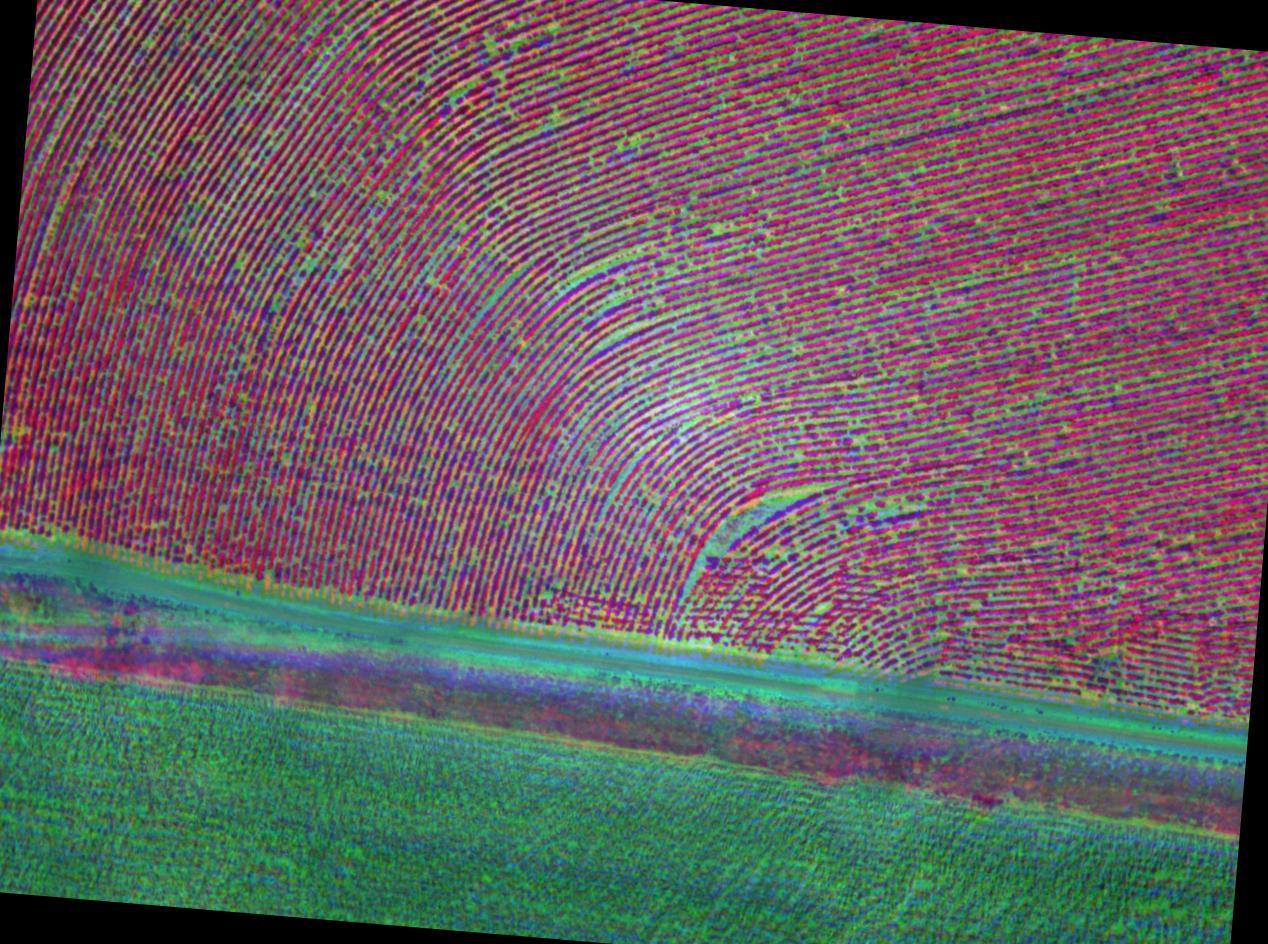dc: (681, 483, 795, 620), (436, 18, 563, 127), (538, 228, 646, 336), (246, 33, 342, 153), (193, 208, 327, 282)
